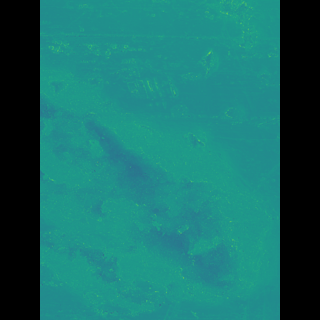Loch: (69, 72, 246, 319)
